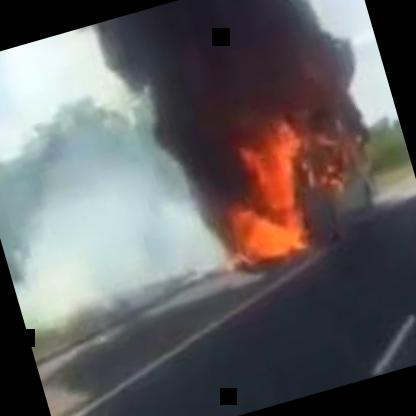fire: (172, 61, 381, 282)
